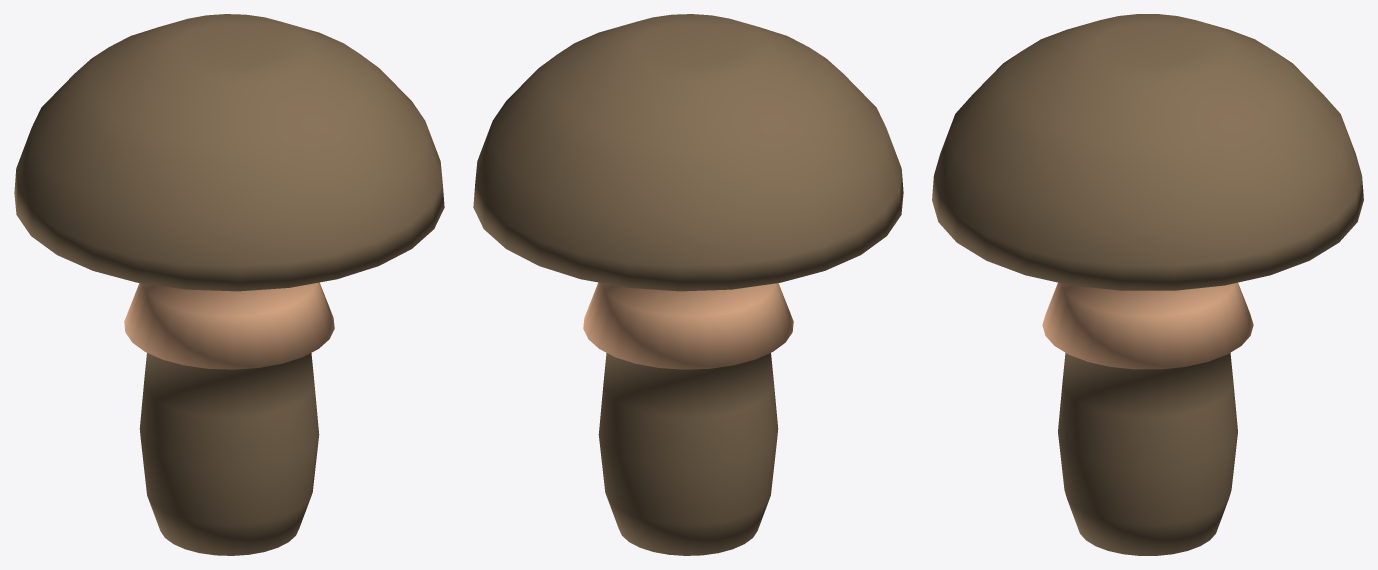
Rendered from push mushroom.fbx.
3 renders of one model, left to right at view 1: azimuth 30°, elevation 25°; view 2: azimuth 150°, elevation 25°; view 3: azimuth 270°, elevation 25°, orthographic.
Parts seen in each view (by area): view 1: pushmushroom; view 2: pushmushroom; view 3: pushmushroom.
Boxes of the visible parts, bbox=[...] form: pushmushroom: bbox=[14, 14, 444, 555]; pushmushroom: bbox=[473, 14, 903, 555]; pushmushroom: bbox=[932, 14, 1363, 555].
Bounding box in the file's own units: 189 × 235 × 191.
